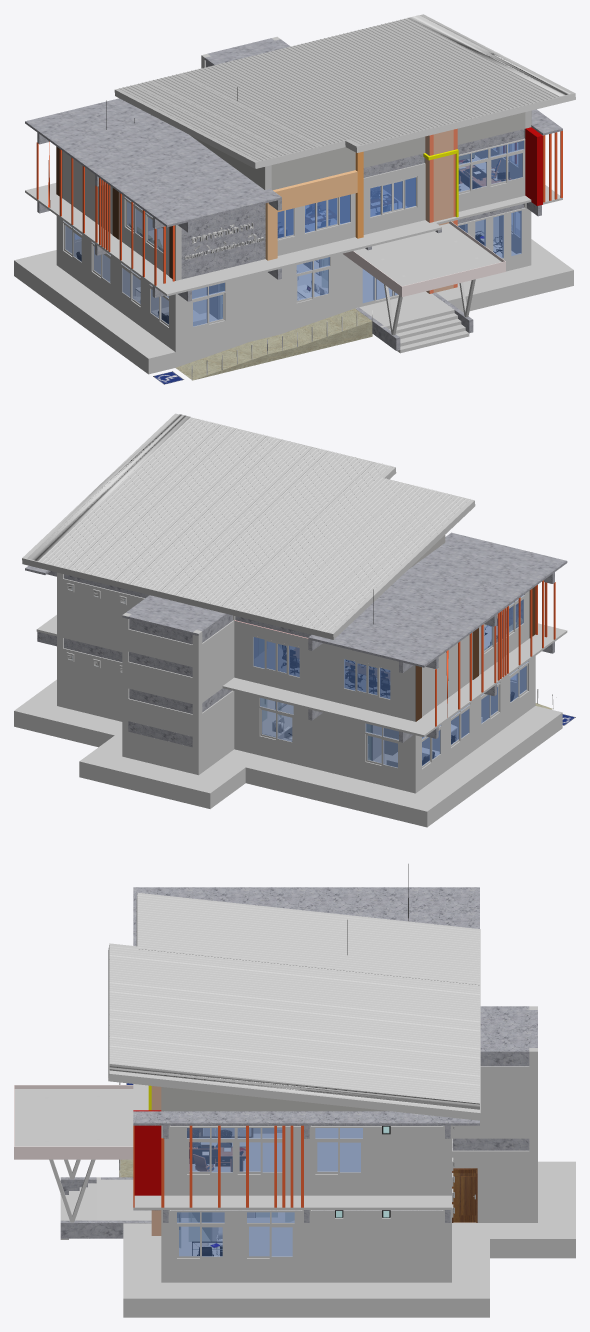
The model's file is obt_office .glb.
The picture shows the model from 3 angles, top to bottom: view 1: azimuth 30°, elevation 25°; view 2: azimuth 150°, elevation 25°; view 3: azimuth 270°, elevation 25°; orthographic projection. The views are drawn at different scales.
Parts seen in each view (by area): view 1: BANKOK; view 2: BANKOK; view 3: BANKOK.
Part boxes in pixels (left/top/right/bottom): BANKOK: left=14, top=14, right=575, bottom=384; BANKOK: left=14, top=413, right=575, bottom=827; BANKOK: left=14, top=864, right=575, bottom=1317.
Bounding box in the file's own units: 20.5 × 10.11 × 19.93.
Materials: 161 (57 with a texture image).
